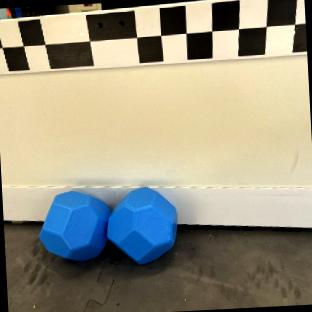V5_BLUE: (107, 187, 177, 263), (39, 191, 109, 260)
pieces: (35, 184, 178, 264)
